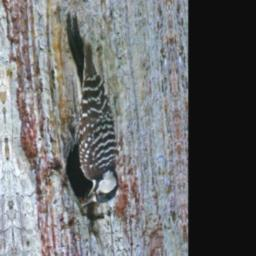Woodpecker: (62, 7, 125, 213)
